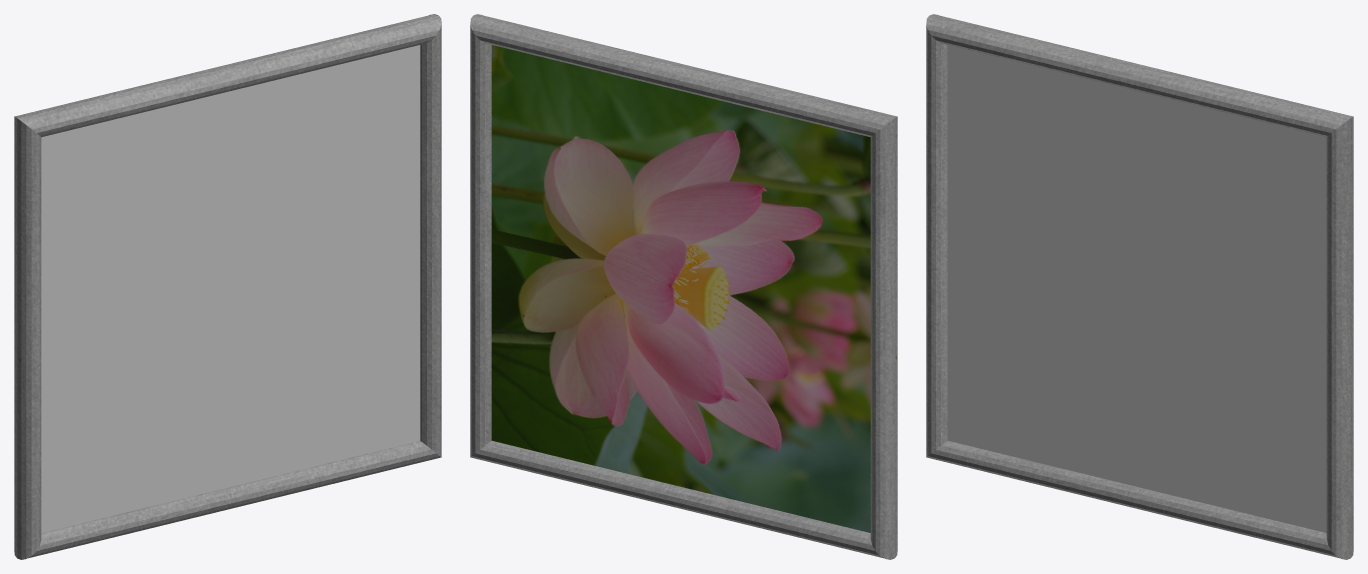
File: frame1.fbx
The picture shows the model from 3 angles, left to right: view 1: azimuth 30°, elevation 25°; view 2: azimuth 150°, elevation 25°; view 3: azimuth 330°, elevation 25°; orthographic projection.
Parts seen in each view (by area): view 1: Cube, Cylinder, Cylinder_002, Cylinder_001, Cylinder_003; view 2: Cube, Cylinder, Cylinder_002, Cylinder_001, Cylinder_003; view 3: Cube, Cylinder_001, Cylinder_002, Cylinder, Cylinder_003.
Part boxes in pixels (box(x1,y1,x2,y2)): Cube: box(41, 45, 420, 532); Cylinder: box(14, 116, 41, 559); Cylinder_002: box(15, 14, 441, 137); Cylinder_001: box(420, 14, 441, 457); Cylinder_003: box(28, 441, 440, 558); Cube: box(491, 45, 870, 532); Cylinder: box(870, 116, 897, 559); Cylinder_002: box(470, 14, 896, 137); Cylinder_001: box(470, 14, 491, 457); Cylinder_003: box(471, 441, 883, 558); Cube: box(947, 45, 1326, 532); Cylinder_001: box(1326, 116, 1353, 559); Cylinder_002: box(926, 14, 1352, 137); Cylinder: box(926, 14, 947, 457); Cylinder_003: box(927, 441, 1339, 558).
Size of the model in its own units: 0.2845 by 0.2841 by 0.02.
